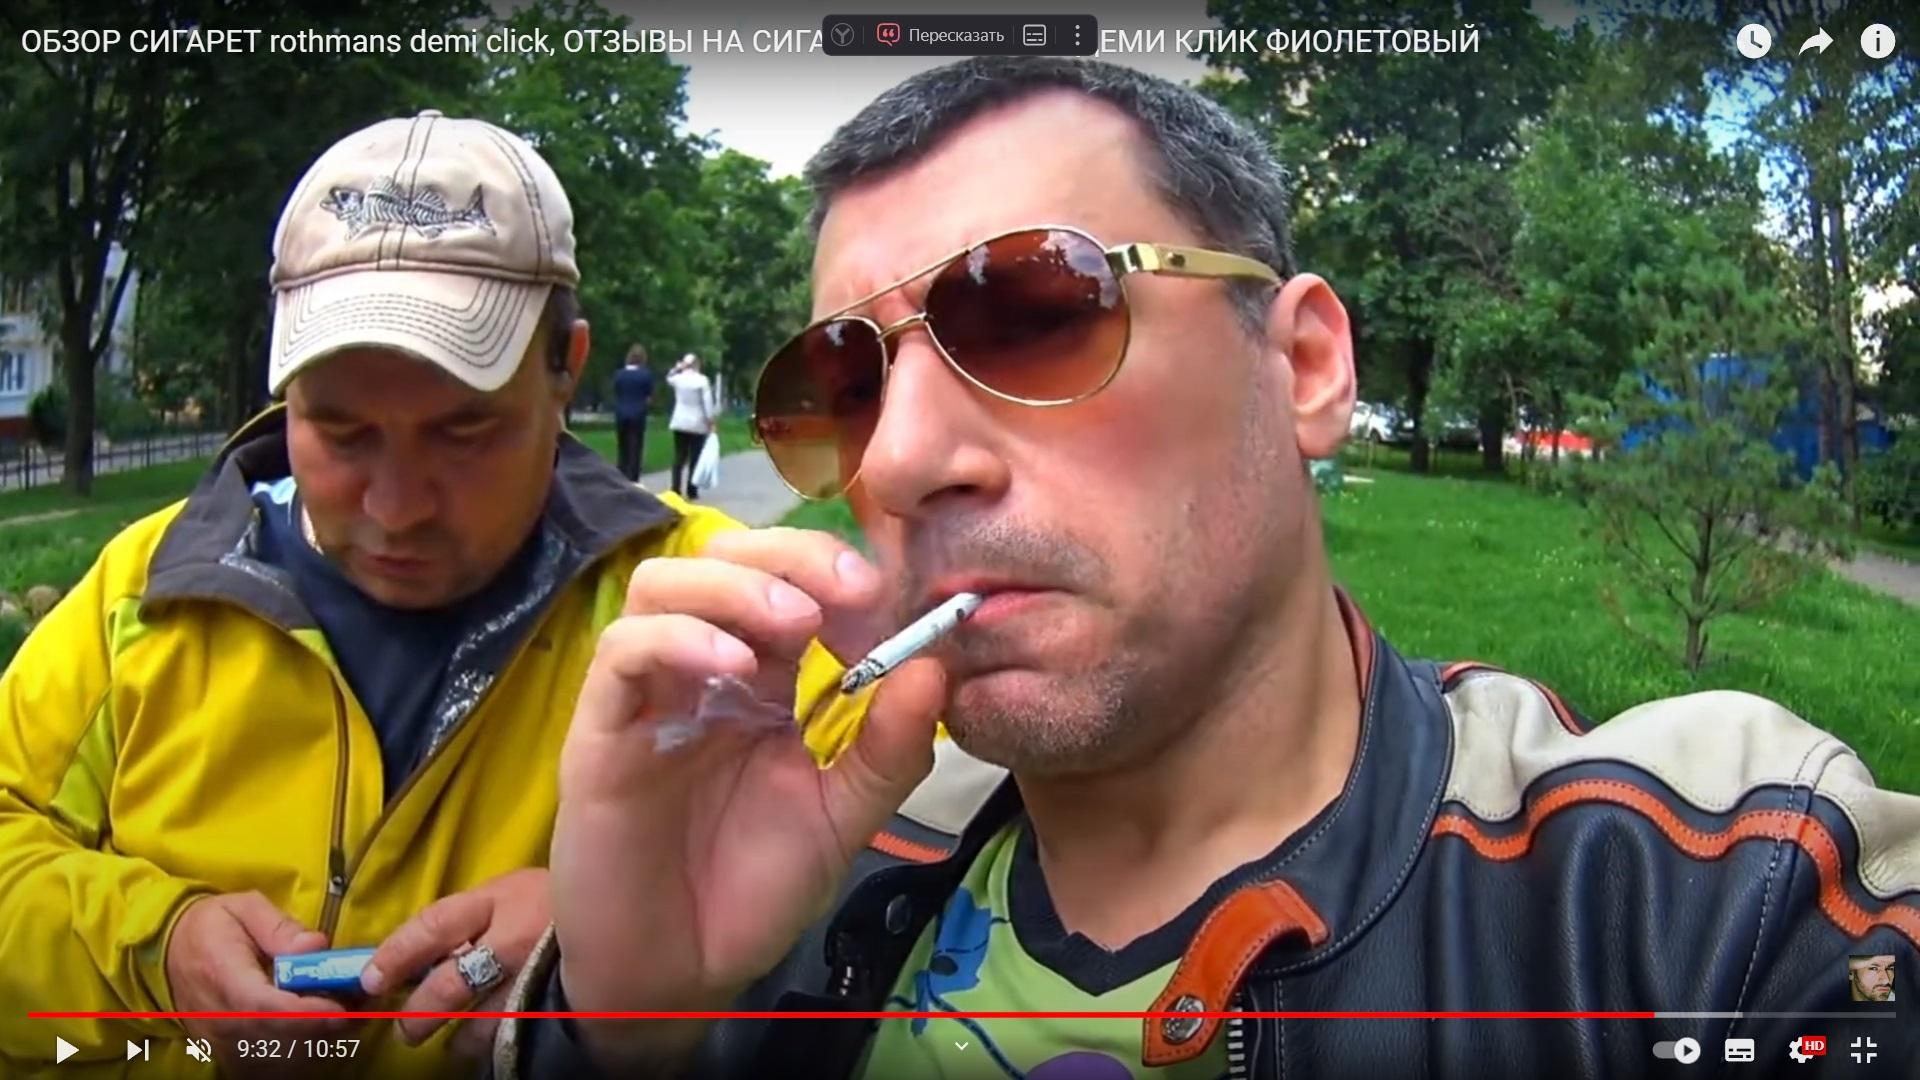cigarette: (843, 593, 984, 694)
